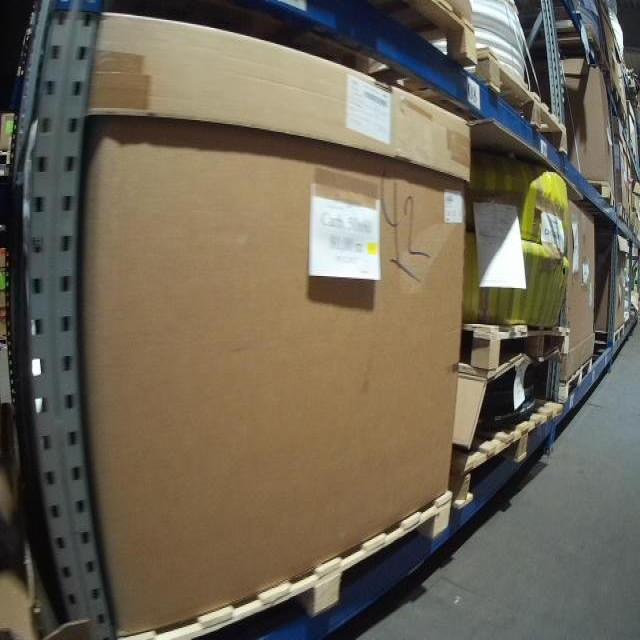pallet: (106, 488, 451, 637), (288, 1, 483, 77), (466, 43, 576, 158), (454, 395, 558, 509), (465, 323, 567, 368), (556, 355, 597, 409), (614, 194, 636, 236), (590, 323, 624, 349), (590, 180, 613, 204)
